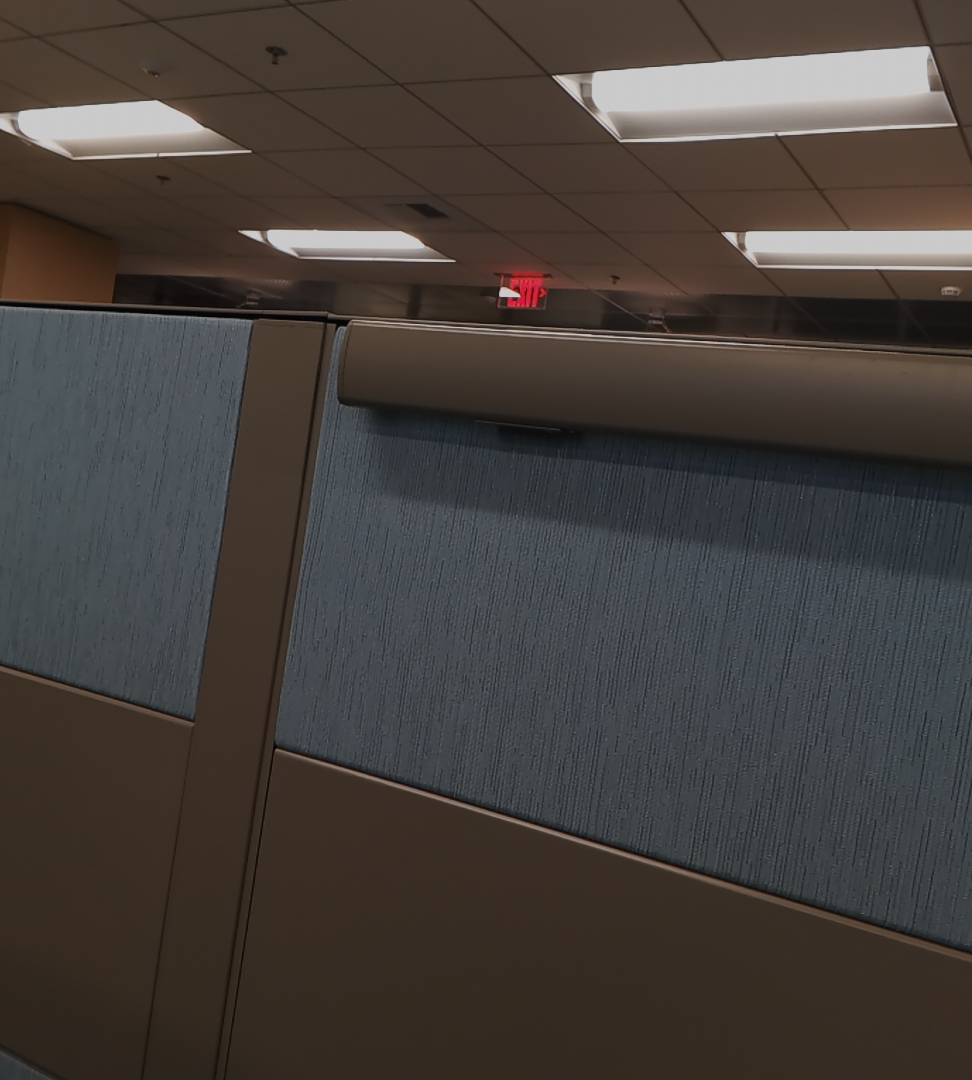emergency_exit: (495, 271, 550, 312)
